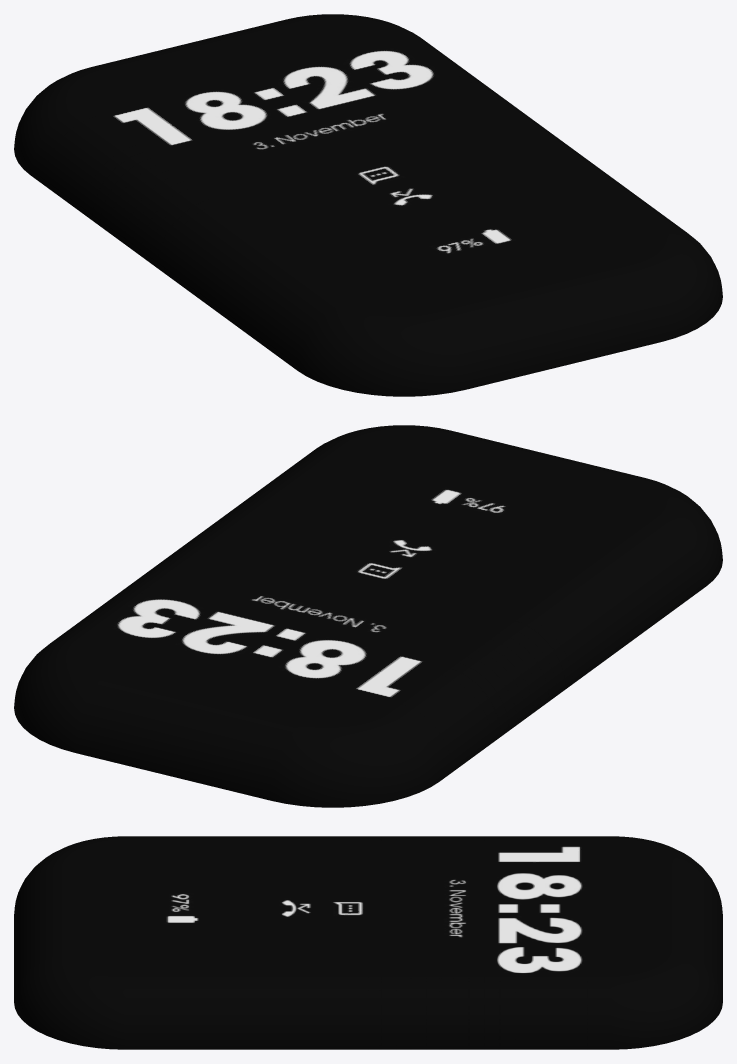
Rendered from screen-s.glb.
3 views of the same model, one above another, from view 1: azimuth 30°, elevation 25°; view 2: azimuth 150°, elevation 25°; view 3: azimuth 270°, elevation 25° (orthographic). The views are drawn at different scales.
Parts seen in each view (by area): view 1: All; view 2: All; view 3: All.
Boxes of the visible parts, x1,y1,x2,y2 form: All: (14, 14, 722, 396); All: (14, 425, 722, 807); All: (14, 836, 722, 1049).
Size of what is drawn, in the model's own units: 0.023 by 0.003 by 0.038.
1 material, 1 textured.
